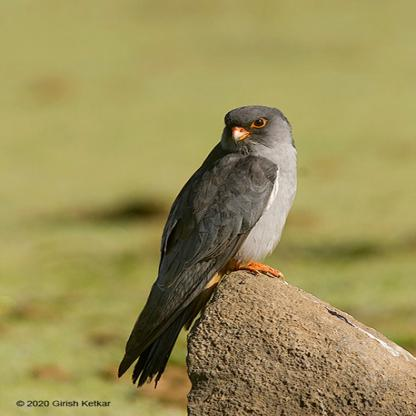Burung: (115, 104, 302, 390)
